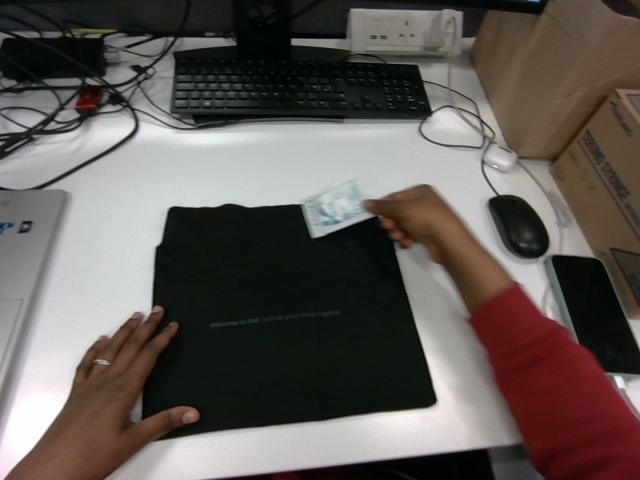gauze: (302, 180, 371, 237)
